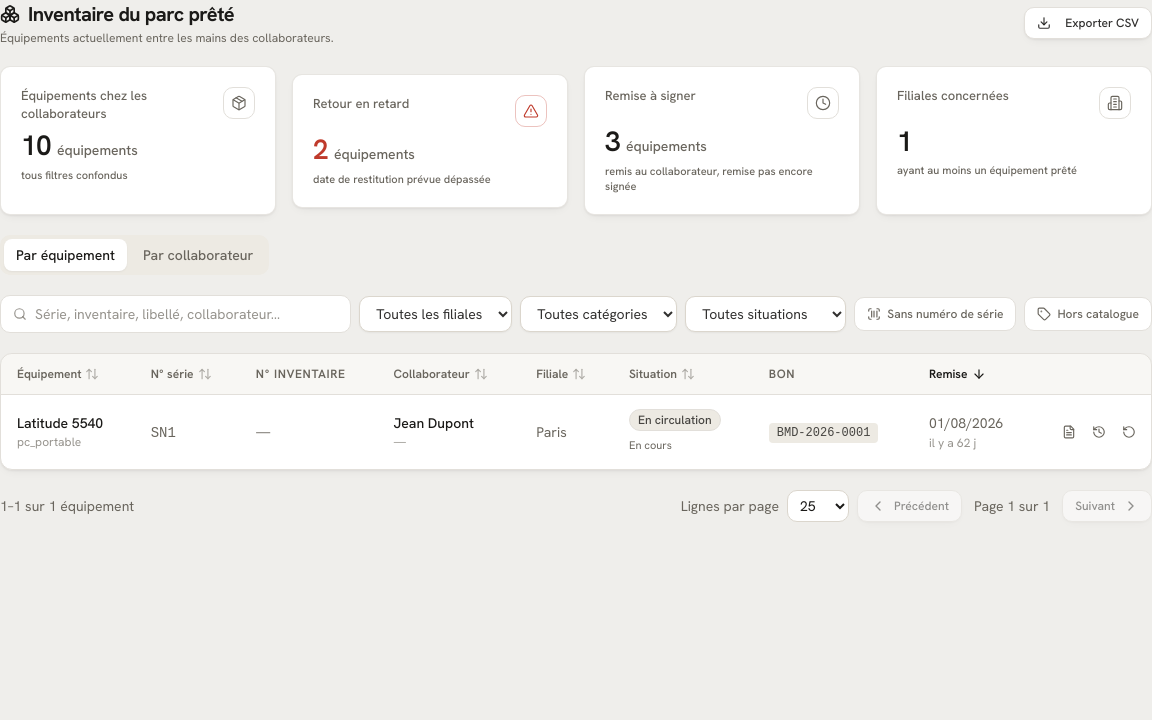
Scenario: InventairePage › vue par collaborateur : l’export reste par équipement, leur nombre est lu à l’ouverture
The width and height of the screenshot is (1152, 720).
Expected: the text "Jean Dupont" is shown, [394,414,474,432]
Click the tab "Par collaborateur" at x=198, y=255, box [131,239,265,271]
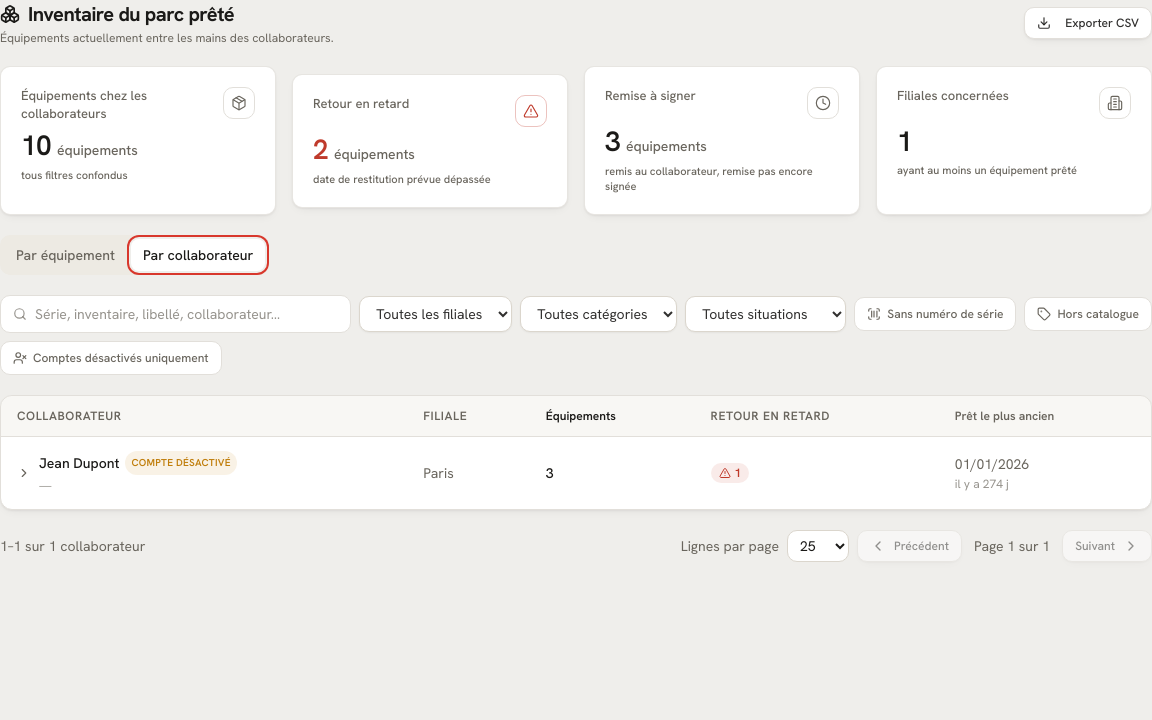
Now the button "Équipements" is shown, box [546,408,616,424]
Click the button "Exporter CSV" at x=1088, y=23, box [1024,7,1151,39]
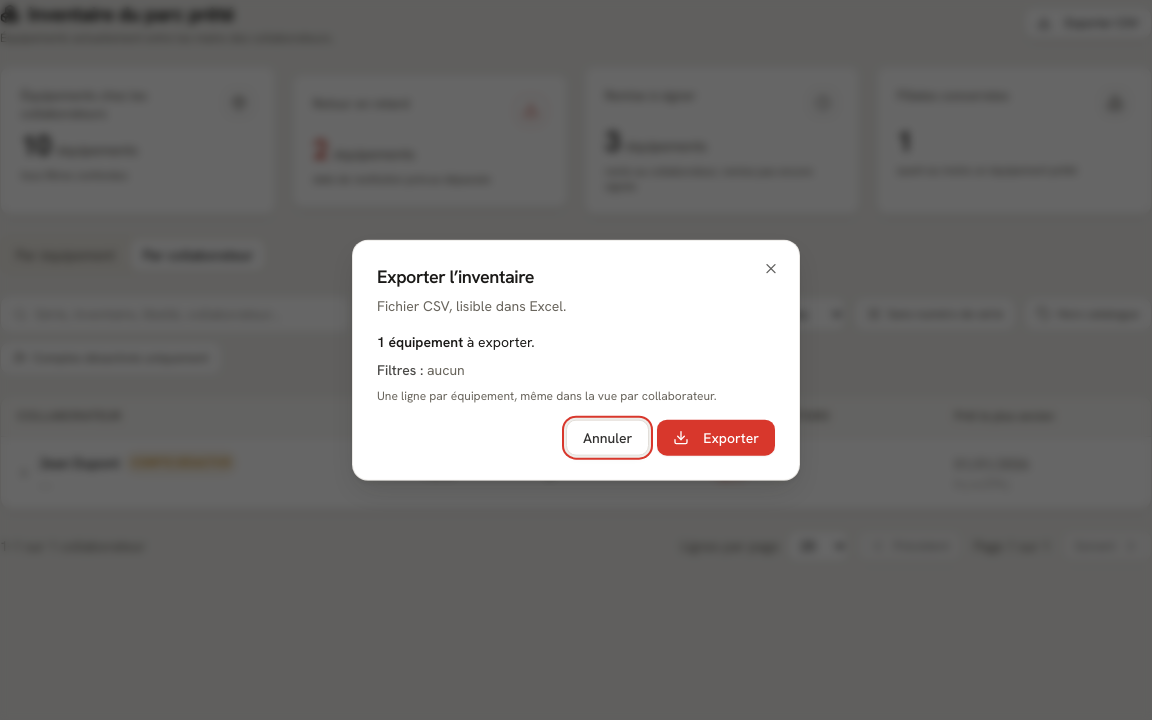
Now the dialog shows "Une ligne par équipement, même dans la vue par collaborateur.", box [377,387,717,403]
Now the dialog shows "1 équipement à exporter.", box [352,240,800,480]
